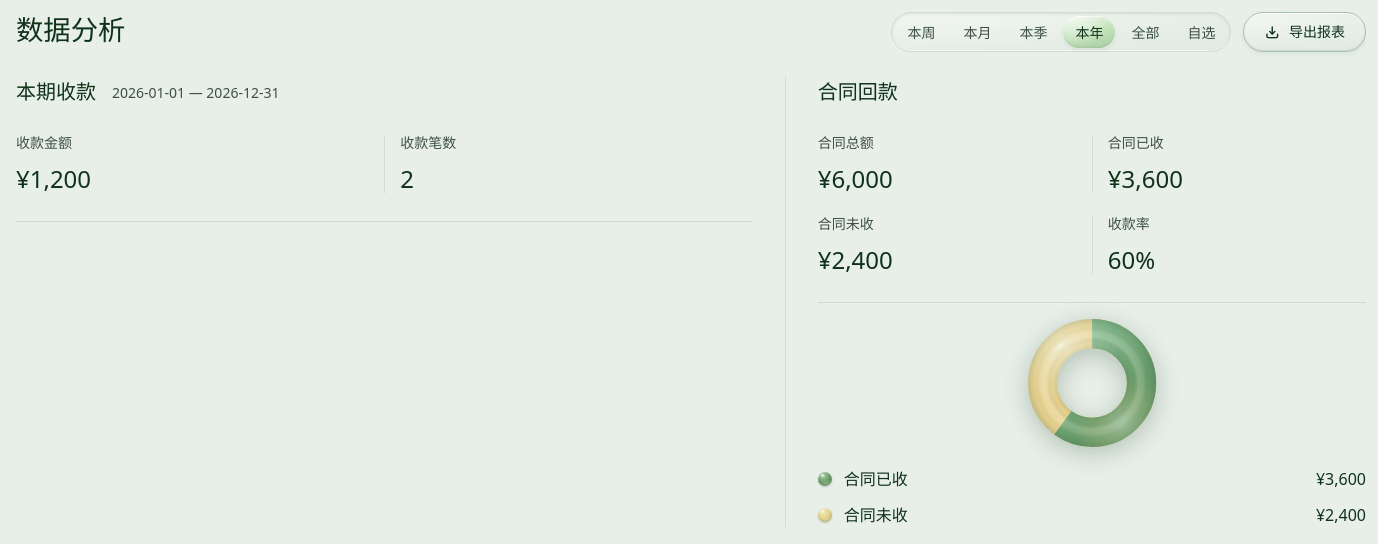
Scenario: AnalyticsView actual receipts › changes signed-contract amounts, the ring and actual receipts with the natural scope
Click the tab "本周". click: [922, 32]
box: [896,16,948,48]
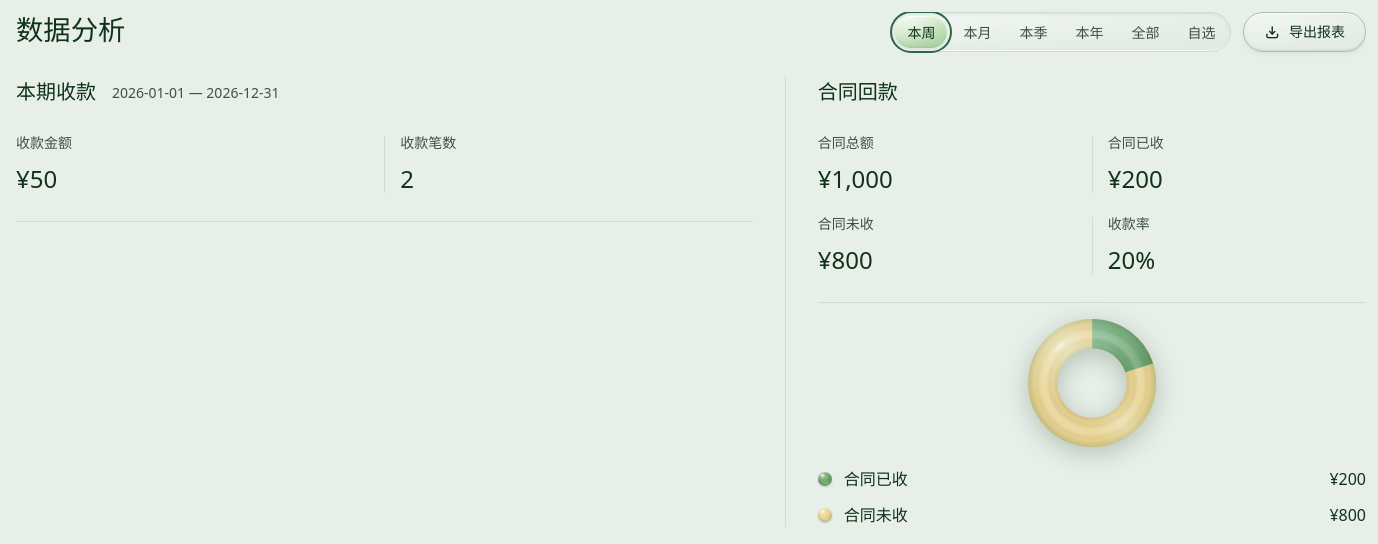
Expected: the text "收款金额" shows "¥50", [16,162,57,195]
Expected: the text "合同未收" next to "收款率" shows "¥800", [818,243,873,276]
Expected: the picture named "合同已收 20%，合同未收 80%" is shown, [818,319,1366,447]
